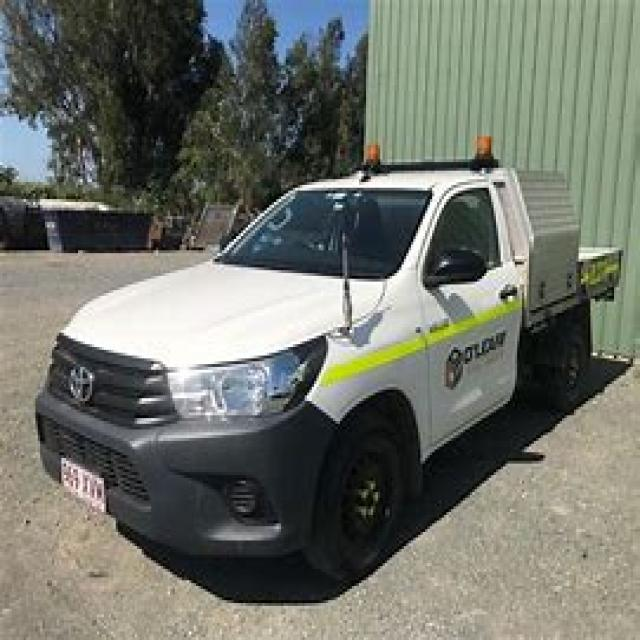light_vehicle: (33, 125, 638, 560)
